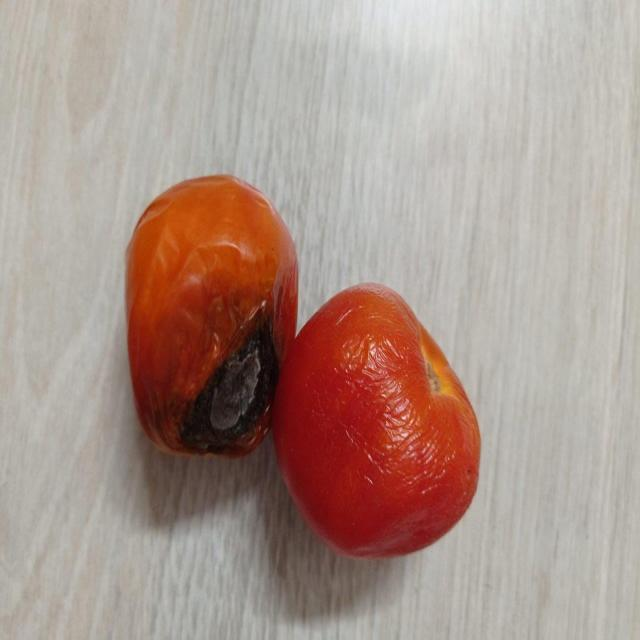Rotten: (124, 174, 299, 458)
overripe: (274, 283, 481, 558)
